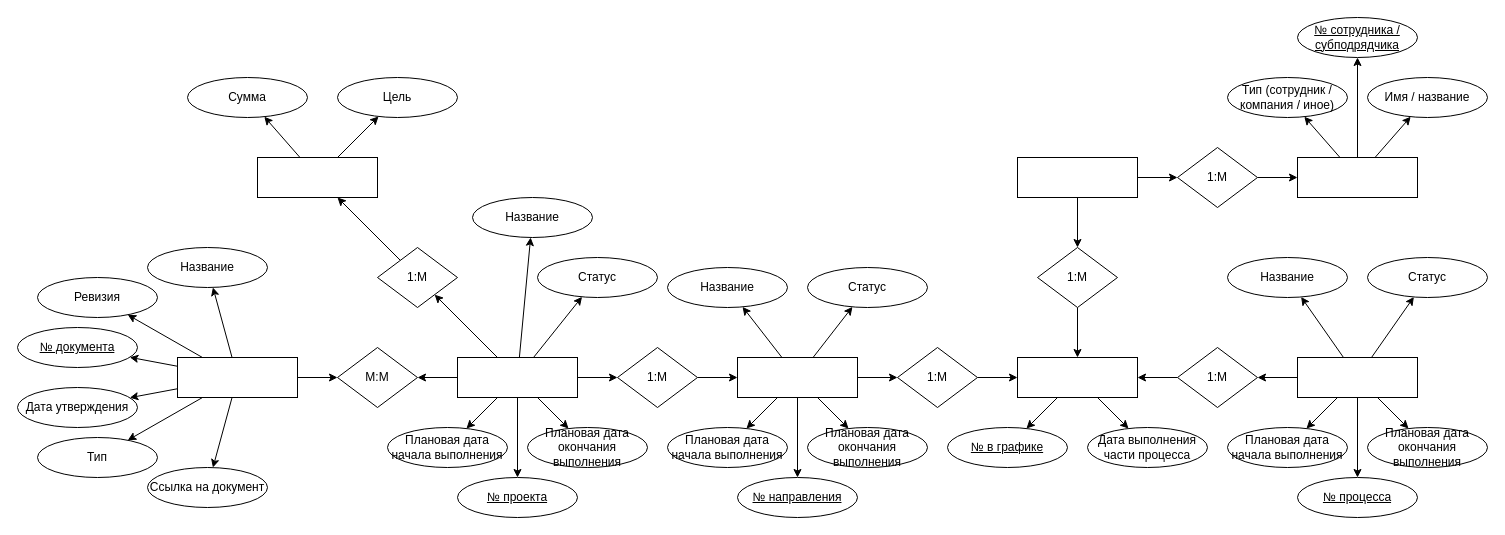
Some shapes in this 1505 by 535 pixel diagram are drawn without their labels. Here are the shapes that lost their labels. From the top down, the centre of each, then its label:
(317,177): Финансы
(1077,177): График сотрудников / субподрядчиков
(1357,177): Список сотрудников / субподрядчиков
(237,377): Документ
(517,377): Проект
(797,377): Направление
(1077,377): График выполнения процессов
(1357,377): Процессы
